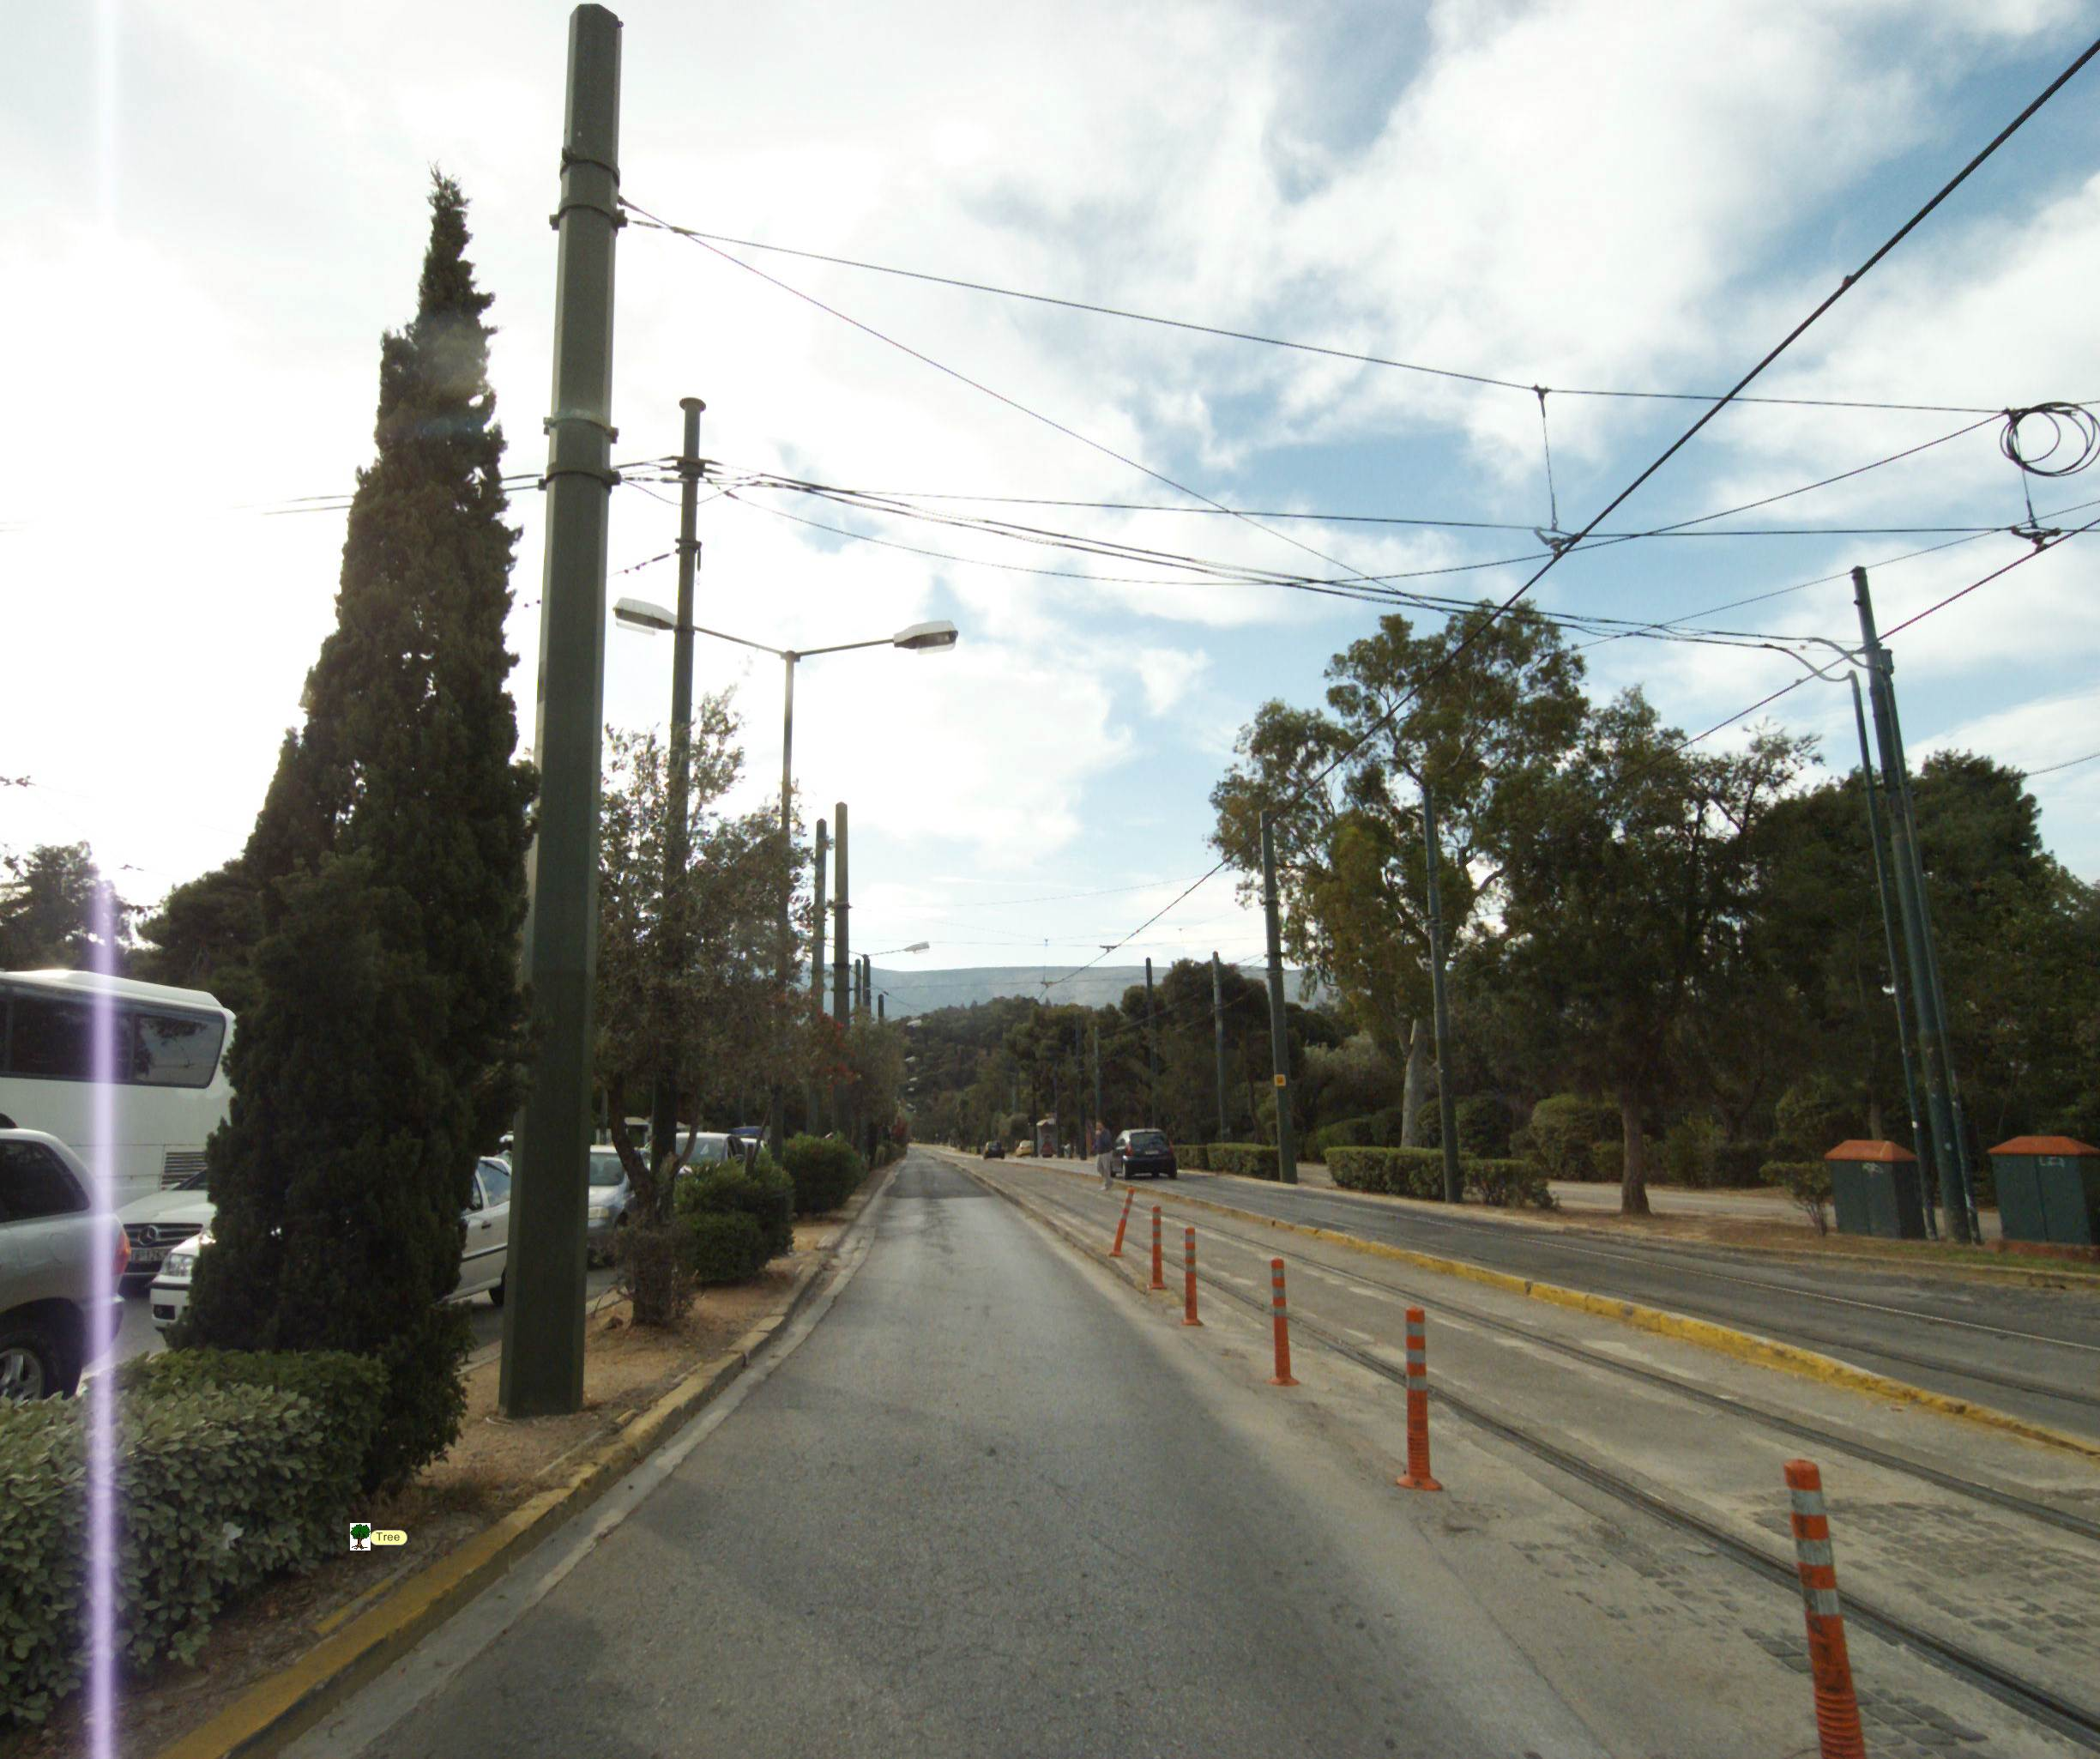tree: (1495, 708, 1805, 1302)
